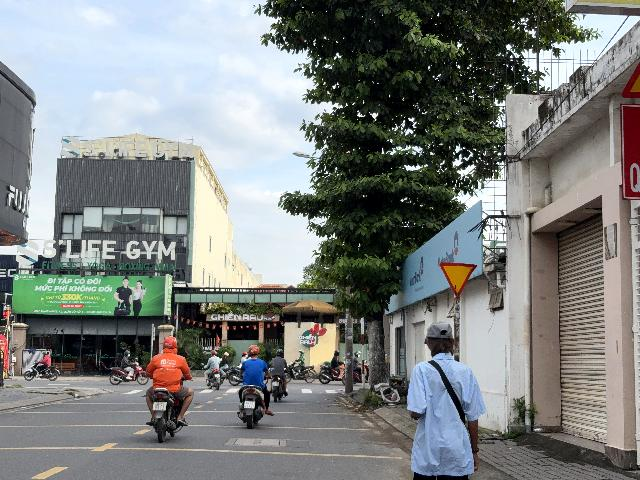giao-nhau-voi-duong-uu-tien: (439, 262, 478, 298)
